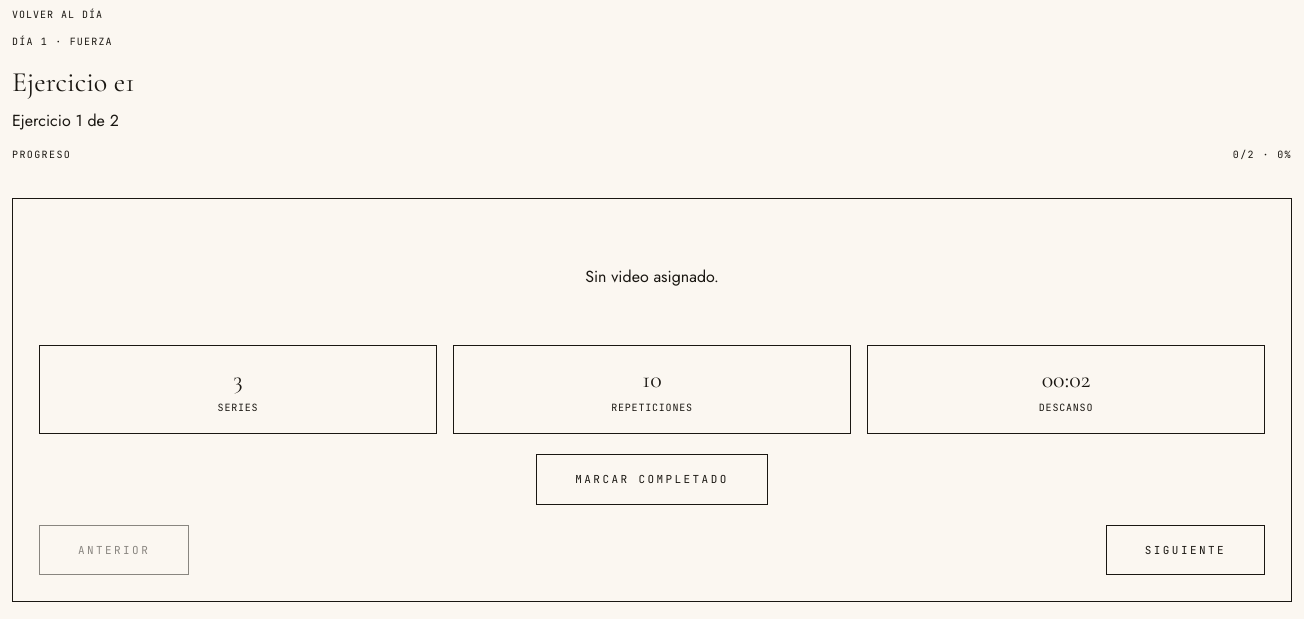
it: TrainingPlayer › auto-advances to the next exercise when the rest timer reaches 0
This screenshot has width=1304, height=619.
Click the button "Marcar completado". click: coordinates (652, 479)
box: [536,454,768,504]
Wait 3000 ms
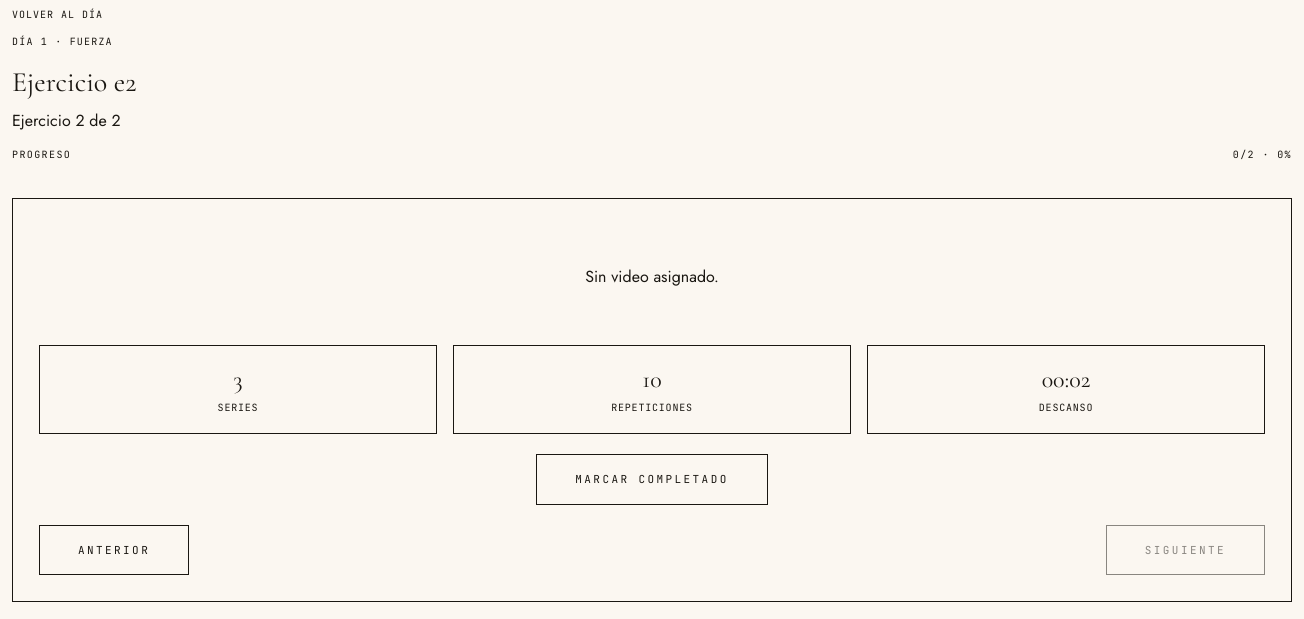
Now the heading "Ejercicio e2" is shown, box [12,65,136,99]
